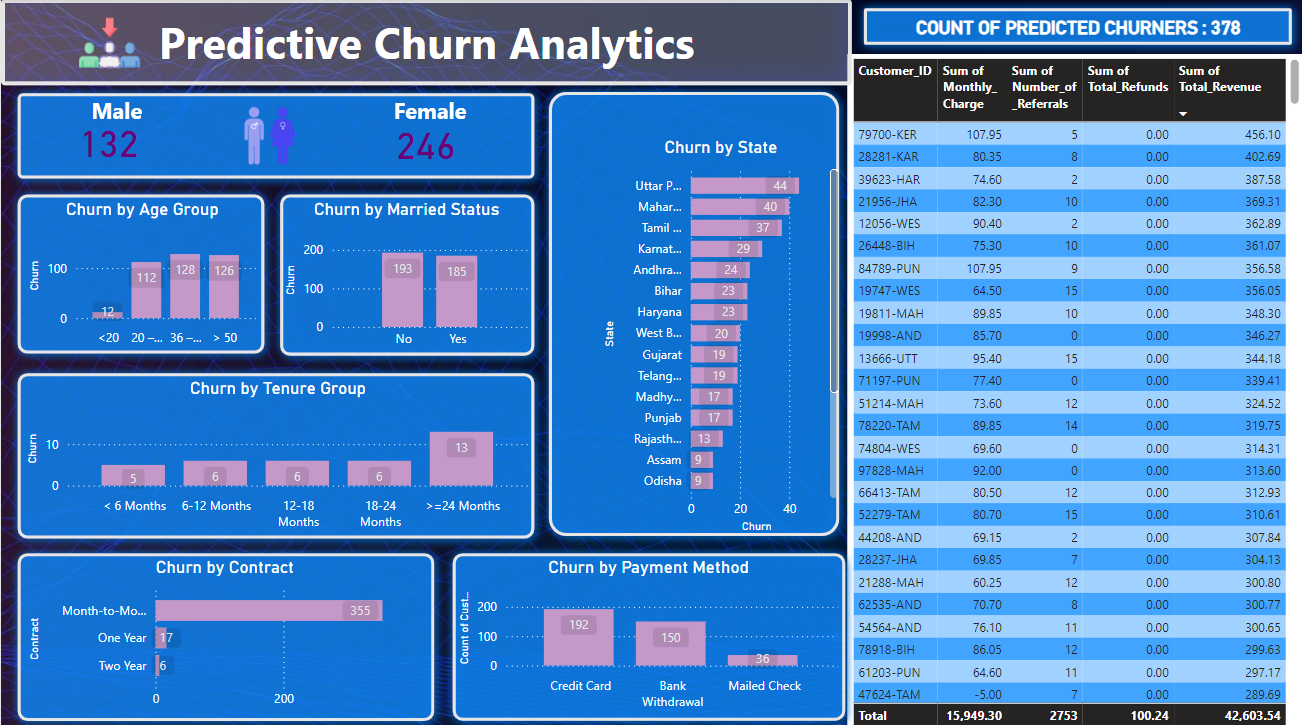

The dashboard page shown, as its layout file describes it:
{"tool":"powerbi","page":{"name":"Predicted","canvas":[1280,720],"ordinal":1},"visuals":[{"type":"tableEx","fields":{"Values":["Predictions.Customer_ID","Sum(Predictions.Monthly_Charge)","Sum(Predictions.Number_of_Referrals)","Sum(Predictions.Total_Refunds)","Sum(Predictions.Total_Revenue)"]},"box":[831.2,53.8,448.8,665],"z":0},{"type":"textbox","box":[0,0,835.6,84.7],"z":1000},{"type":"shape","box":[7.4,83.4,525.2,101.8],"z":2000},{"type":"shape","box":[7.4,182.8,260.1,174.2],"z":3000},{"type":"shape","box":[265,182.5,267.5,176.2],"z":4000},{"type":"shape","box":[7.4,358.3,525.2,180.4],"z":5000},{"type":"shape","box":[434.2,535,403.3,182.5],"z":6000},{"type":"shape","box":[7.4,535,427,182.8],"z":7000},{"type":"shape","box":[529,82,303,454],"z":8000},{"type":"card","fields":{"Values":["tbl_Measures.Count Predicted Churner"]},"box":[34.4,106.7,143.6,65],"z":9000},{"type":"card","fields":{"Values":["tbl_Measures.Count Predicted Churner"]},"box":[357.1,106.7,120.2,68.7],"z":10000},{"type":"clusteredColumnChart","fields":{"Category":["mapping_AgeGrp.Age Group"],"Y":["CountNonNull(Predictions.Customer_ID)"]},"box":[22.1,196.3,233.1,152.1],"z":11000},{"type":"clusteredColumnChart","fields":{"Y":["CountNonNull(Predictions.Customer_ID)"],"Category":["Predictions.Married"]},"box":[273.6,196.3,249.1,155.8],"z":12000},{"type":"clusteredColumnChart","fields":{"Y":["CountNonNull(mapping_TenureGrp.Tenure Group)"],"Category":["mapping_TenureGrp.Tenure Group"]},"box":[20.9,371.8,501.8,157.1],"z":13000},{"type":"clusteredColumnChart","title":"Churn by Payment Method","fields":{"Category":["Predictions.Payment_Method"],"Y":["CountNonNull(Predictions.Customer_ID)"]},"box":[444.2,547.2,382.8,158.3],"z":14000},{"type":"barChart","fields":{"Category":["Predictions.Contract"],"Y":["CountNonNull(Predictions.Customer_ID)"]},"box":[22.1,547.2,395.1,158.3],"z":15000},{"type":"shape","box":[838,0,438,54],"z":16000},{"type":"card","fields":{"Values":["tbl_Measures.Title Predicted Churners"]},"box":[878.5,11,358.3,34.4],"z":17000},{"type":"barChart","fields":{"Y":["CountNonNull(Predictions.Customer_ID)"],"Category":["Predictions.State"]},"box":[586.5,135,240.5,393.9],"z":18000},{"type":"textbox","box":[7.4,89.6,515.3,41.7],"z":19000},{"type":"image","box":[206.1,92,116.6,82.2],"z":20000},{"type":"image","box":[65.7,8.6,81.4,70],"z":21000}]}

Visuals, with their boxes in screenshot pixels (x1, y1, x2, y2), scaled from the page's 1280x720 canvas onto the 1302x725 screenshot:
tableEx - Predictions.Customer_ID x Sum(Predictions.Monthly_Charge): (left=845, top=54, right=1301, bottom=724)
textbox: (left=0, top=0, right=850, bottom=85)
shape: (left=8, top=84, right=542, bottom=186)
shape: (left=8, top=184, right=272, bottom=359)
shape: (left=270, top=184, right=542, bottom=361)
shape: (left=8, top=361, right=542, bottom=542)
shape: (left=442, top=539, right=852, bottom=722)
shape: (left=8, top=539, right=442, bottom=723)
shape: (left=538, top=83, right=846, bottom=540)
card - tbl_Measures.Count Predicted Churner: (left=35, top=107, right=181, bottom=173)
card - tbl_Measures.Count Predicted Churner: (left=363, top=107, right=486, bottom=177)
clusteredColumnChart - mapping_AgeGrp.Age Group x CountNonNull(Predictions.Customer_ID): (left=22, top=198, right=260, bottom=351)
clusteredColumnChart - CountNonNull(Predictions.Customer_ID) x Predictions.Married: (left=278, top=198, right=532, bottom=355)
clusteredColumnChart - CountNonNull(mapping_TenureGrp.Tenure Group) x mapping_TenureGrp.Tenure Group: (left=21, top=374, right=532, bottom=533)
"Churn by Payment Method" clusteredColumnChart: (left=452, top=551, right=841, bottom=710)
barChart - Predictions.Contract x CountNonNull(Predictions.Customer_ID): (left=22, top=551, right=424, bottom=710)
shape: (left=852, top=0, right=1298, bottom=54)
card - tbl_Measures.Title Predicted Churners: (left=894, top=11, right=1258, bottom=46)
barChart - CountNonNull(Predictions.Customer_ID) x Predictions.State: (left=597, top=136, right=841, bottom=533)
textbox: (left=8, top=90, right=532, bottom=132)
image: (left=210, top=93, right=328, bottom=175)
image: (left=67, top=9, right=150, bottom=79)
